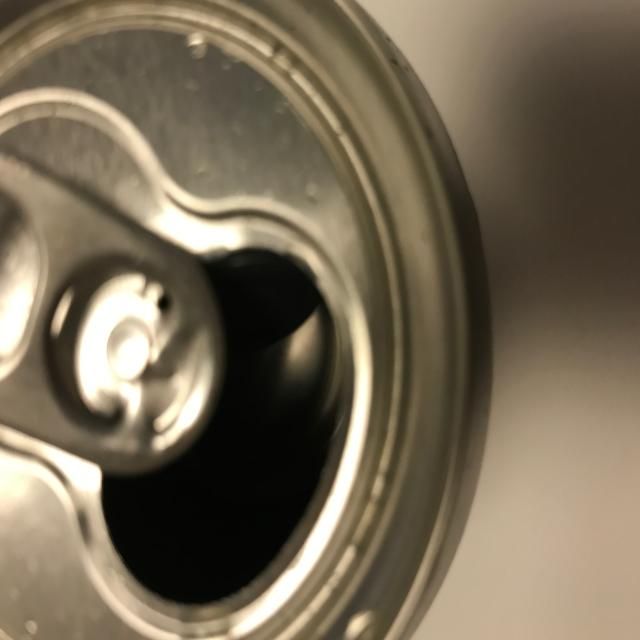metal: (0, 0, 495, 640)
